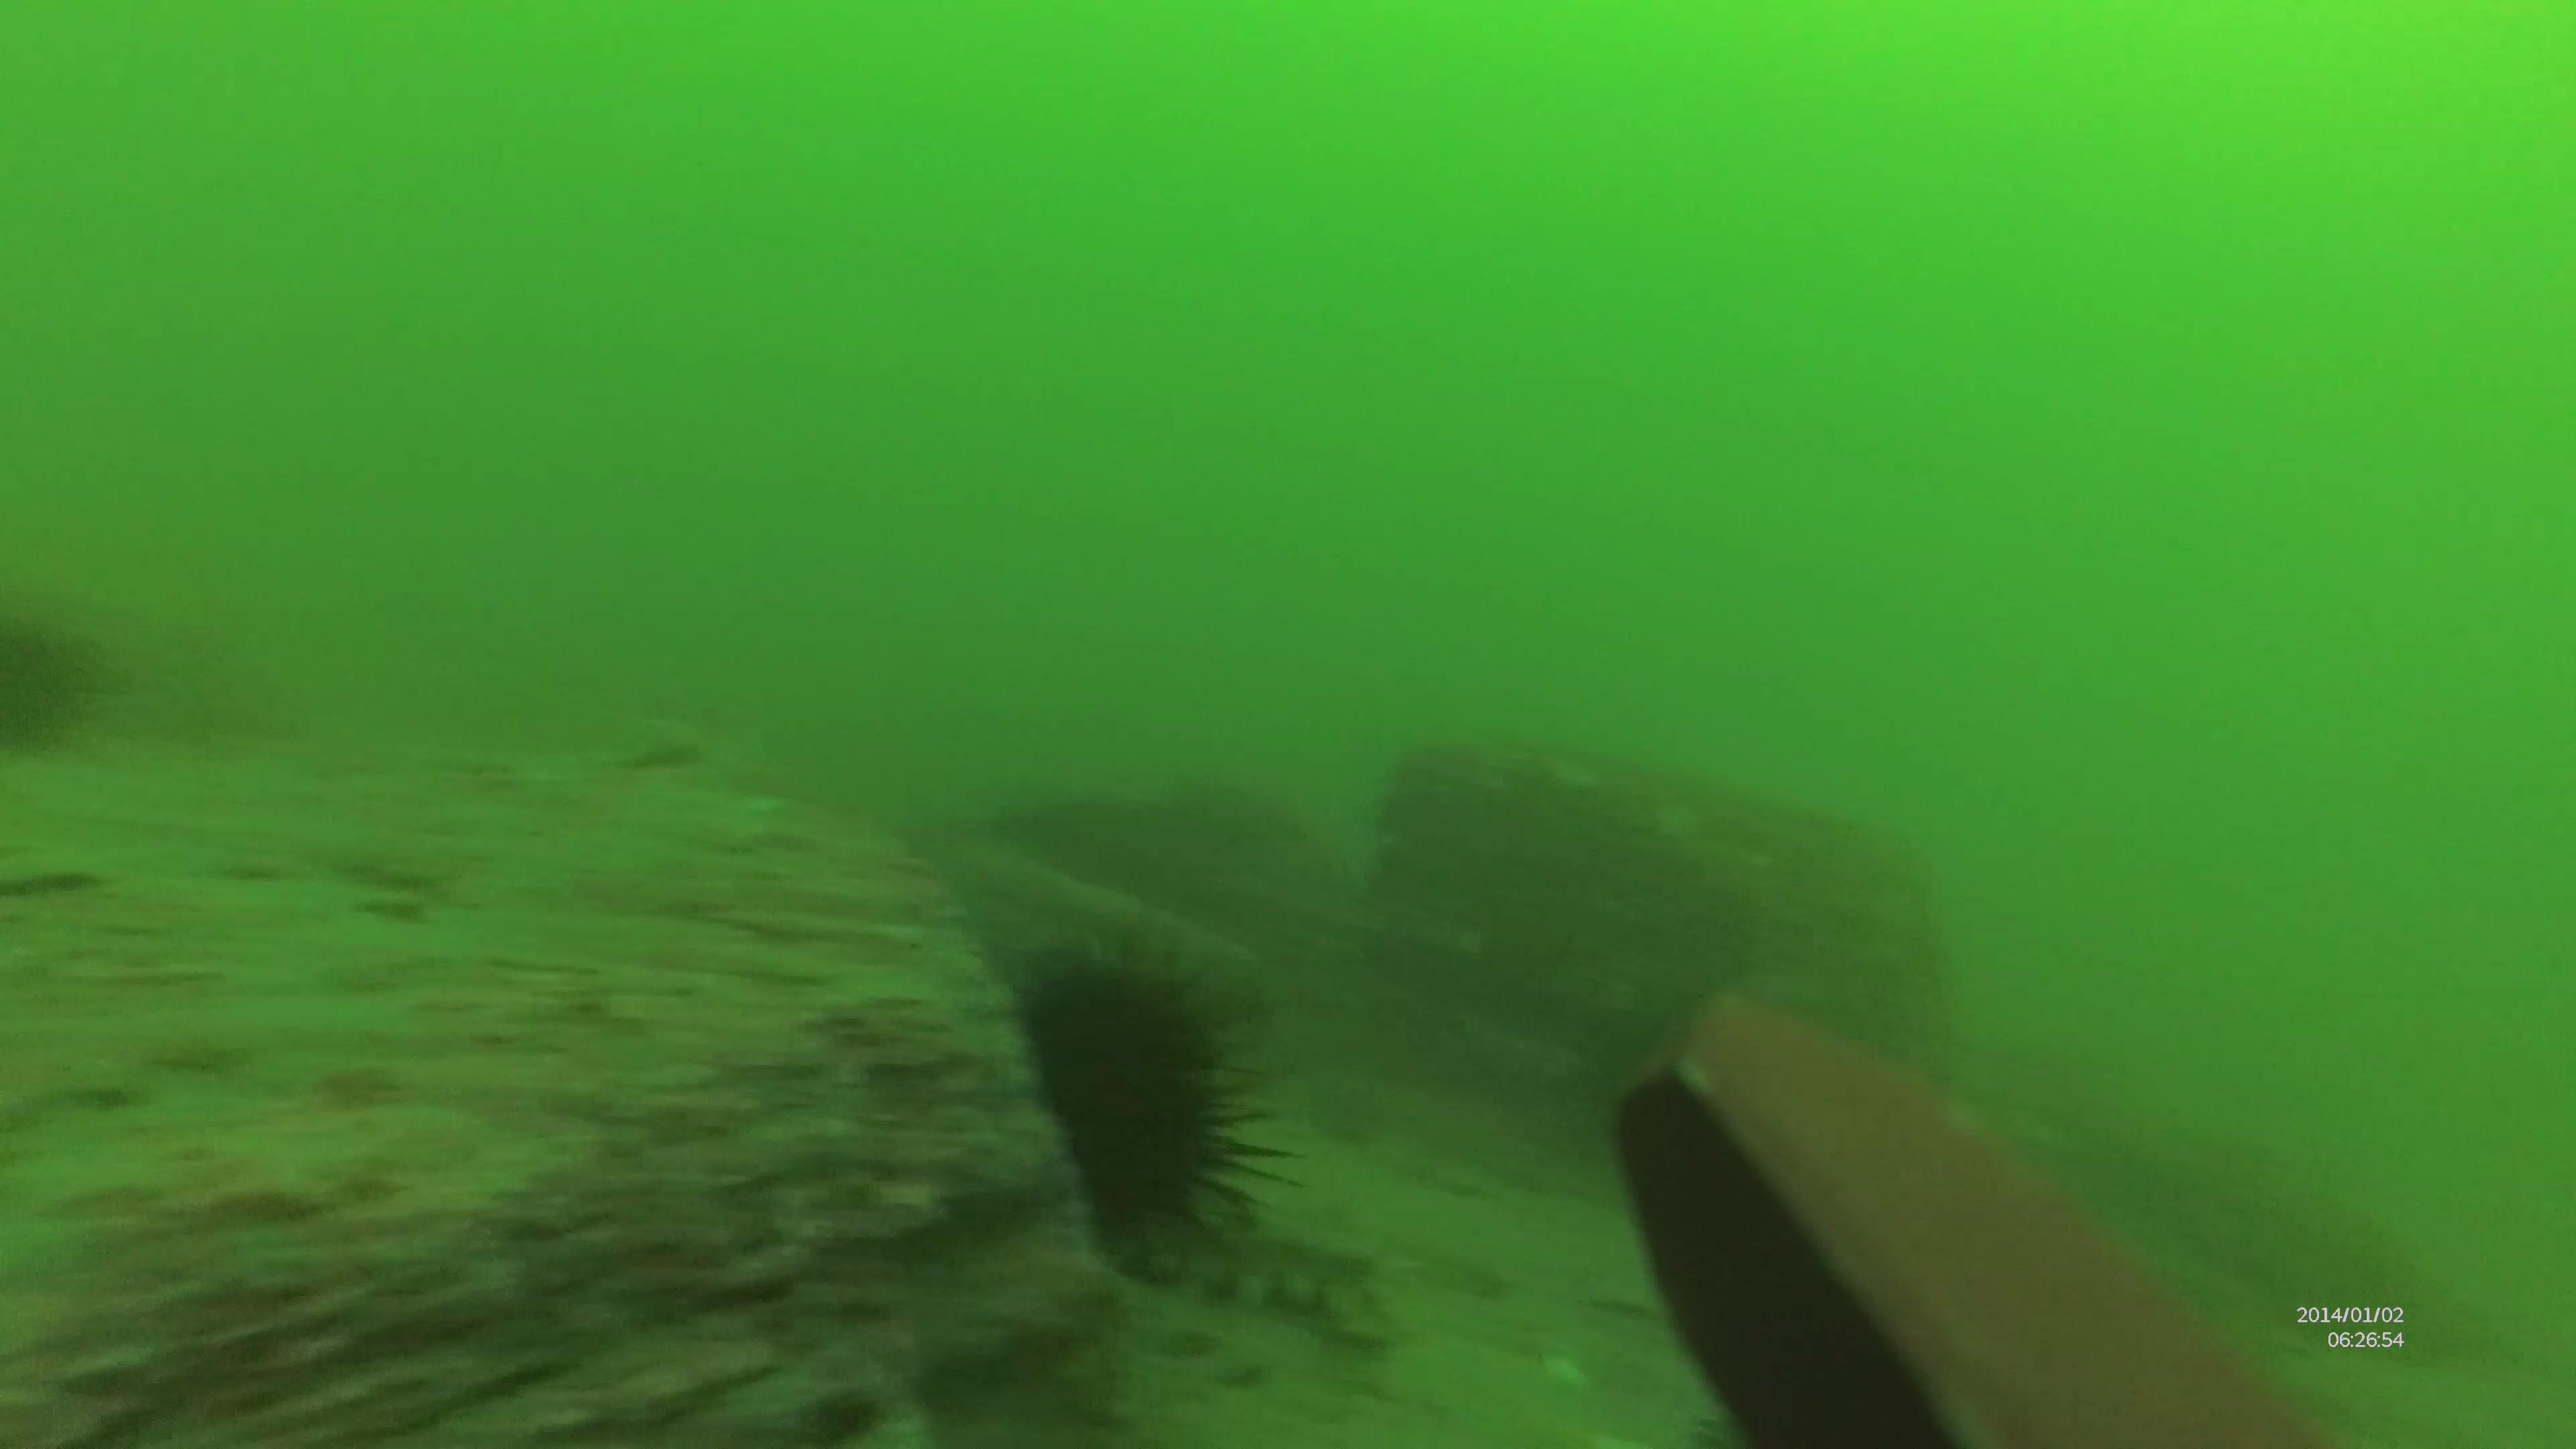echinus: (1008, 941, 1261, 1244)
holothurian: (1072, 1205, 1401, 1355)
